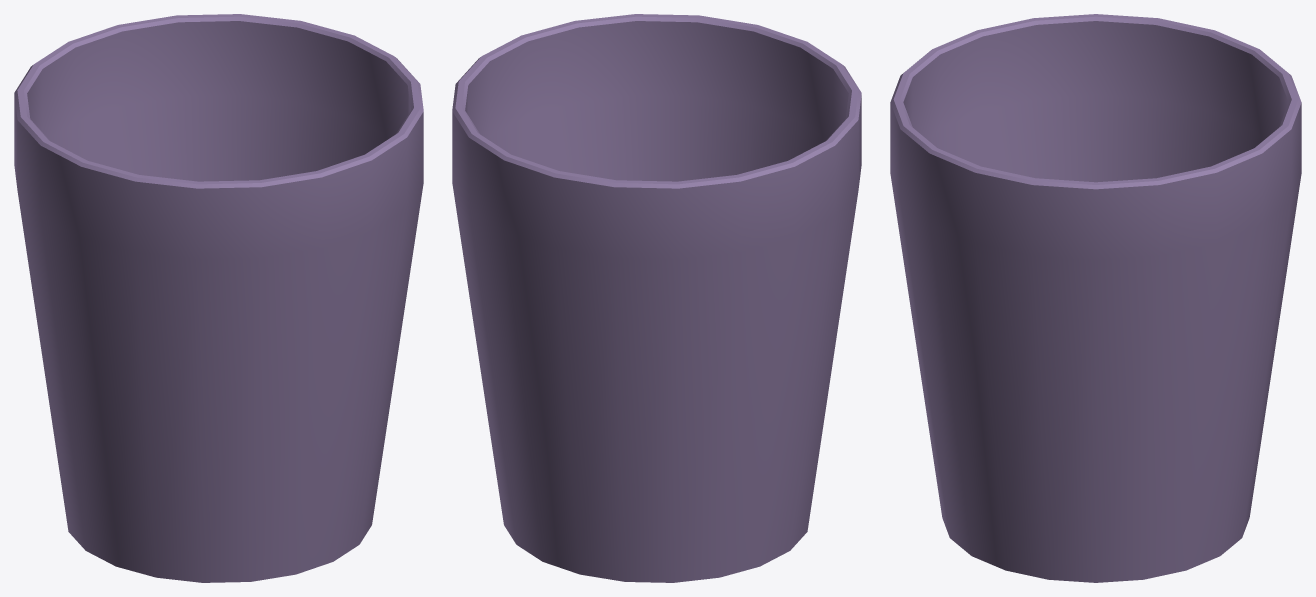
Rendered from trash.fbx.
3 renders of one model, left to right at view 1: azimuth 30°, elevation 25°; view 2: azimuth 150°, elevation 25°; view 3: azimuth 270°, elevation 25°, orthographic.
Parts seen in each view (by area): view 1: pCylinder4; view 2: pCylinder4; view 3: pCylinder4.
Boxes of the visible parts, x1,y1,x2,y2 form: pCylinder4: (14, 14, 423, 582); pCylinder4: (452, 14, 861, 582); pCylinder4: (890, 14, 1301, 582).
Size of the model in its own units: 23.73 by 26.65 by 23.73.
